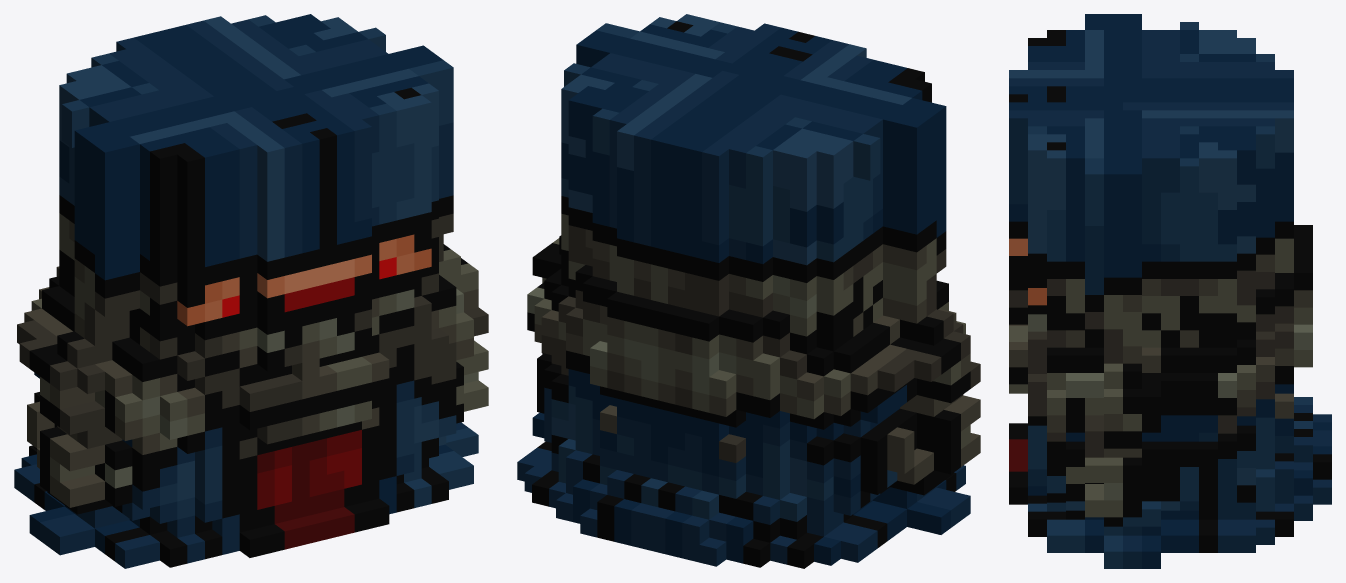
Rendered from Icon_715_03.obj.
3 renders of one model, left to right at view 1: azimuth 30°, elevation 25°; view 2: azimuth 150°, elevation 25°; view 3: azimuth 270°, elevation 25°, orthographic. The views are drawn at different scales.
Bounding box in the file's own units: 2.4 × 2.2 × 1.7.
Materials: 1 (1 with a texture image).
